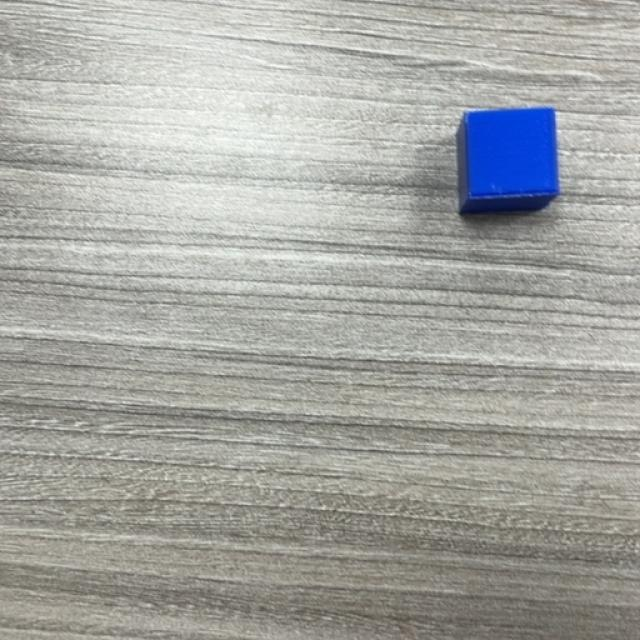Azul: (455, 108, 560, 216)
